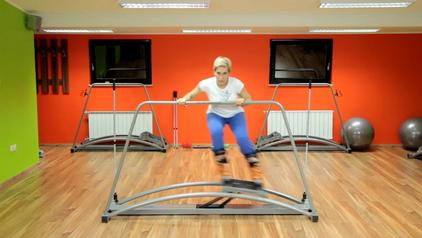walk: (198, 57, 260, 163)
